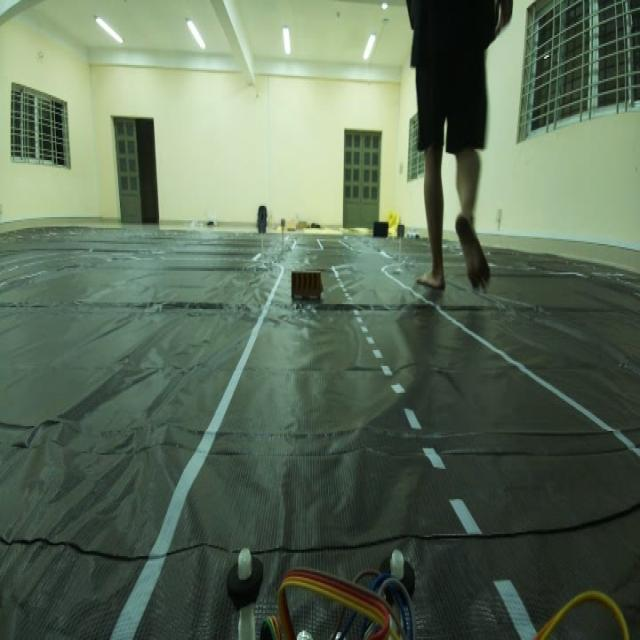roadblock: (288, 266, 324, 307)
